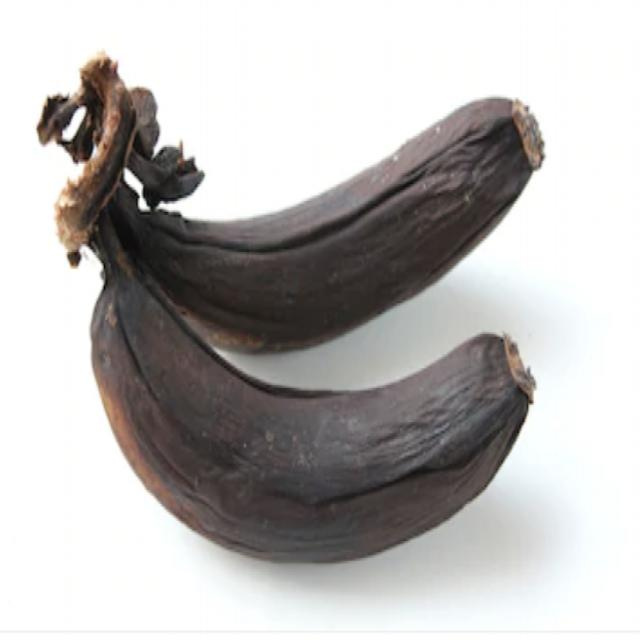rotten-banana: (90, 267, 564, 563), (91, 59, 547, 328)
